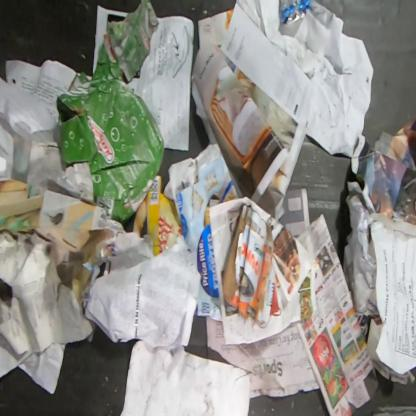cardboard: (57, 0, 165, 225), (0, 176, 126, 309), (174, 143, 240, 323), (132, 175, 183, 257)
metal: (279, 0, 311, 28)
